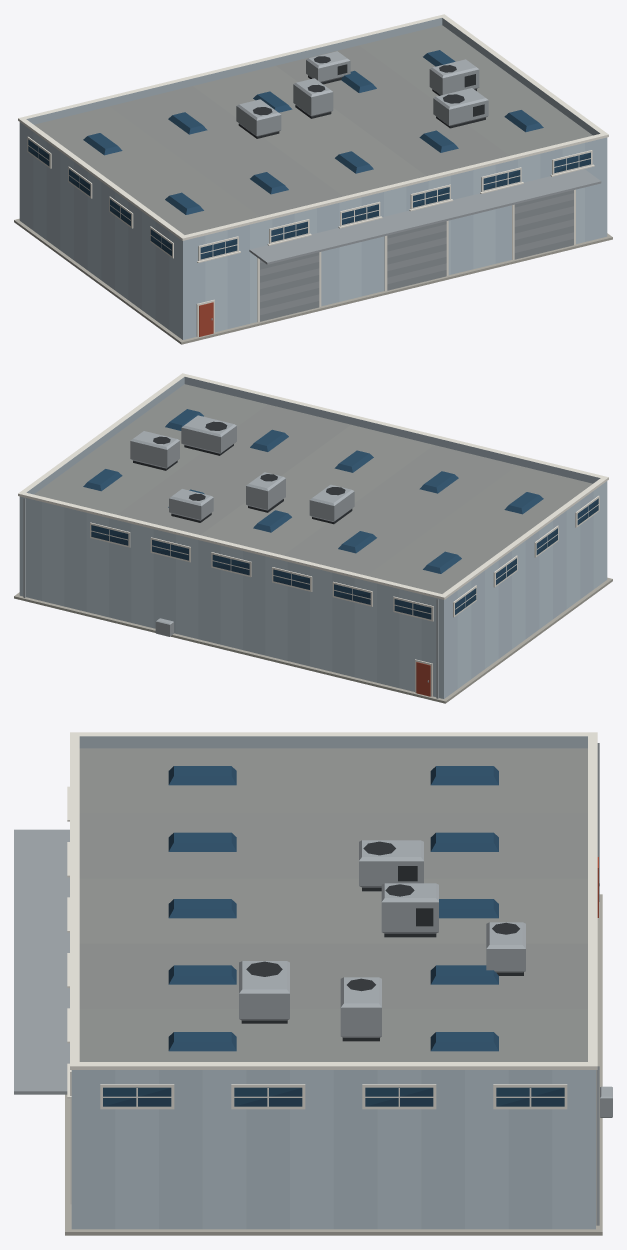
The model's file is hall_30x20.glb.
3 views of the same model, one above another, from view 1: azimuth 30°, elevation 25°; view 2: azimuth 150°, elevation 25°; view 3: azimuth 270°, elevation 25° (orthographic). The views are drawn at different scales.
Parts seen in each view (by area): view 1: block; view 2: block; view 3: block.
Boxes of the visible parts, x1,y1,x2,y2 form: block: (14, 14, 612, 344); block: (14, 373, 612, 703); block: (14, 732, 612, 1235).
Bounding box in the file's own units: 30.5 × 8.2 × 22.85.
